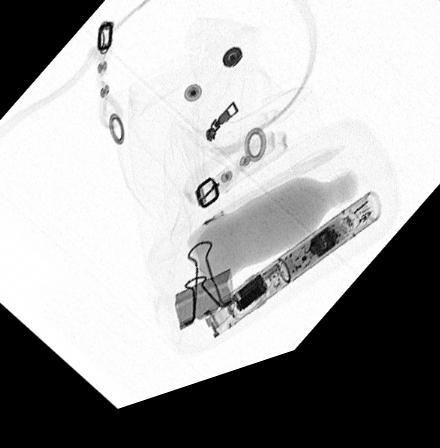Baton: (202, 215, 382, 354)
